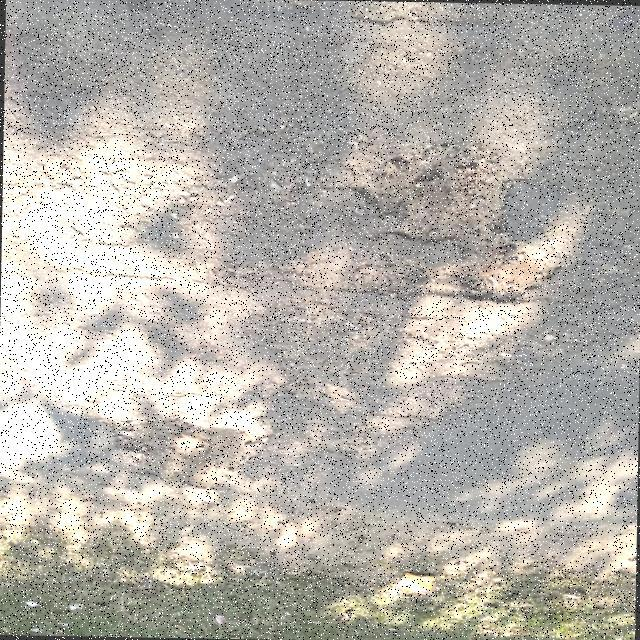Pothole: (330, 137, 575, 302), (100, 412, 271, 490)
